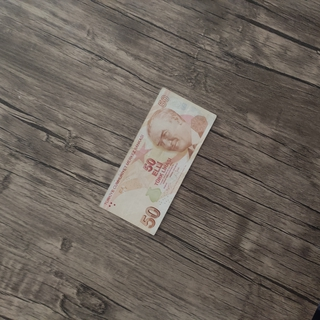50TLFront: (99, 85, 217, 235)
